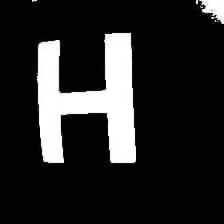LTR_H: (27, 23, 144, 165)
